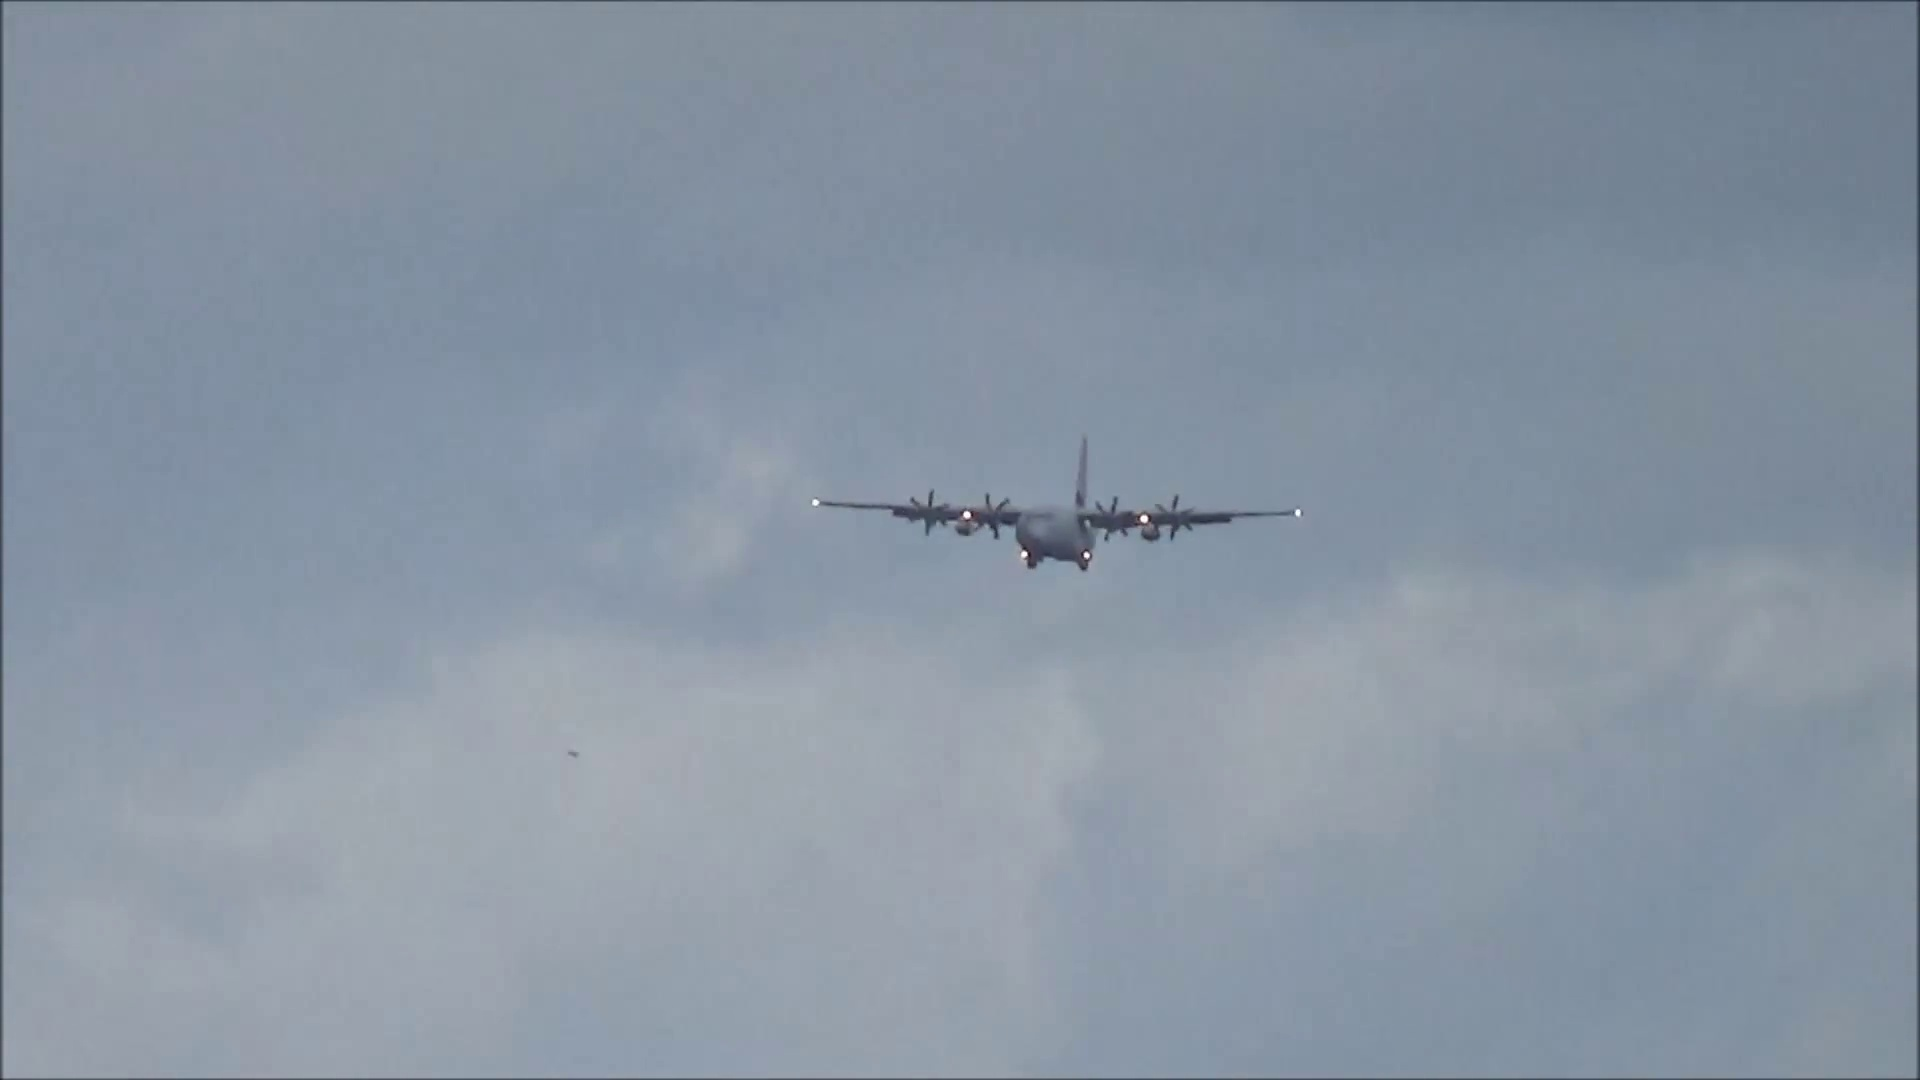Airplane: (819, 435, 1311, 575)
